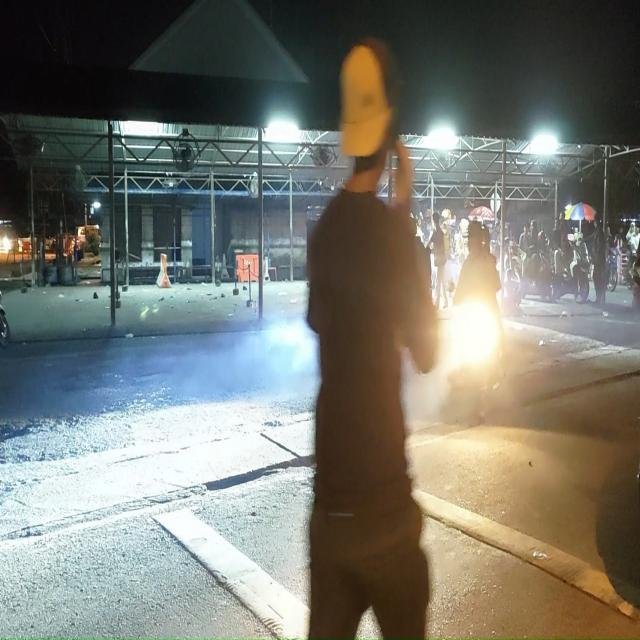Golongan II: (444, 302, 502, 419), (552, 242, 590, 304), (520, 246, 552, 302), (606, 247, 618, 292)
